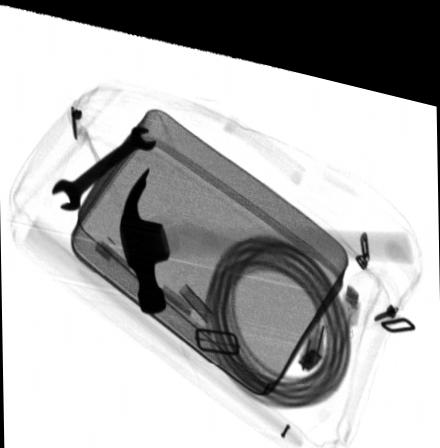Hammer: (118, 160, 414, 307)
Wrench: (50, 121, 157, 208)
